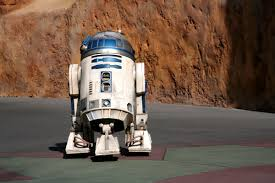r2d2: (65, 29, 152, 157)
